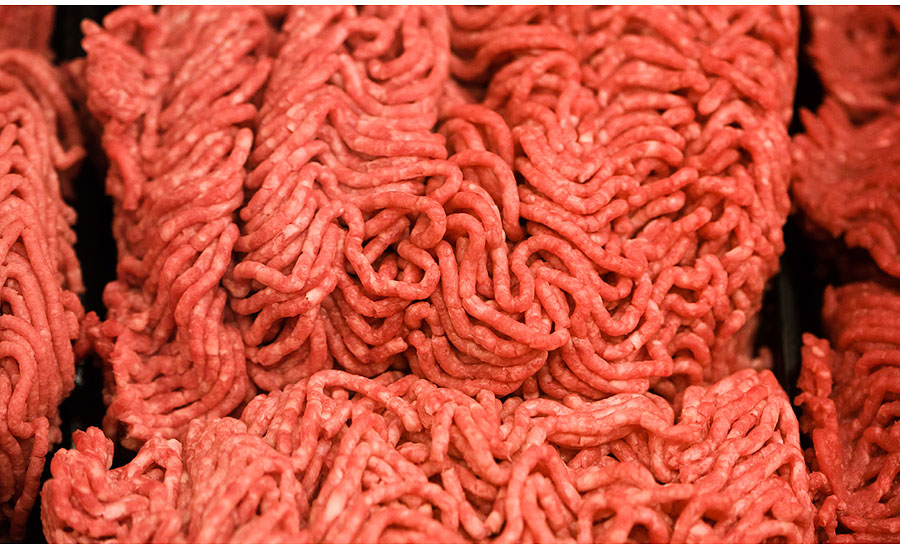ground_beef: (93, 20, 767, 348), (73, 378, 803, 546), (796, 28, 900, 242)
